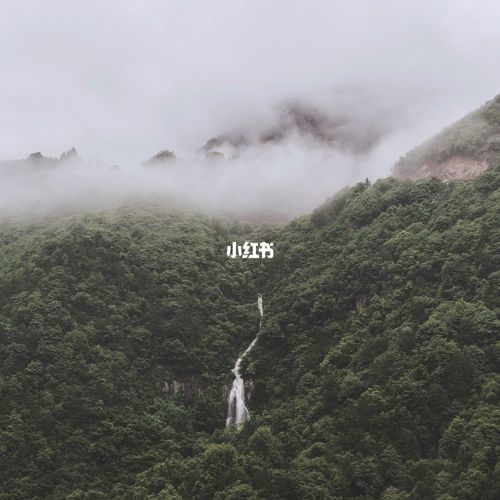mountain: (200, 192, 487, 453), (18, 218, 275, 440)
